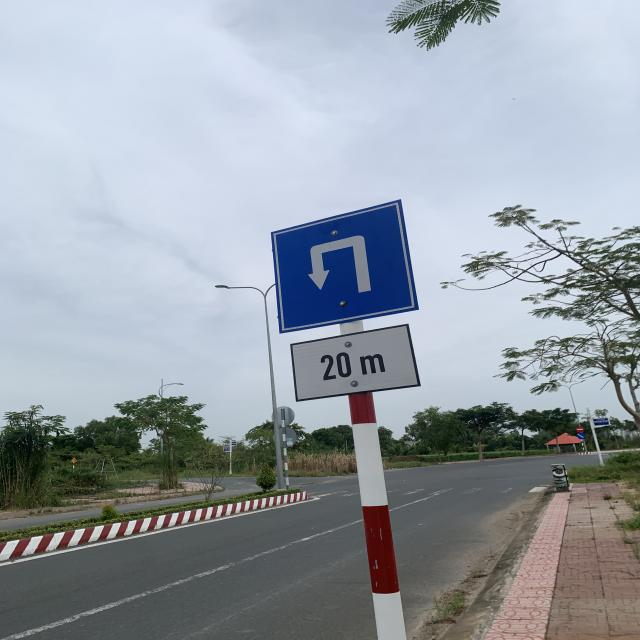Den_Giao_Thong: (263, 200, 425, 338)
